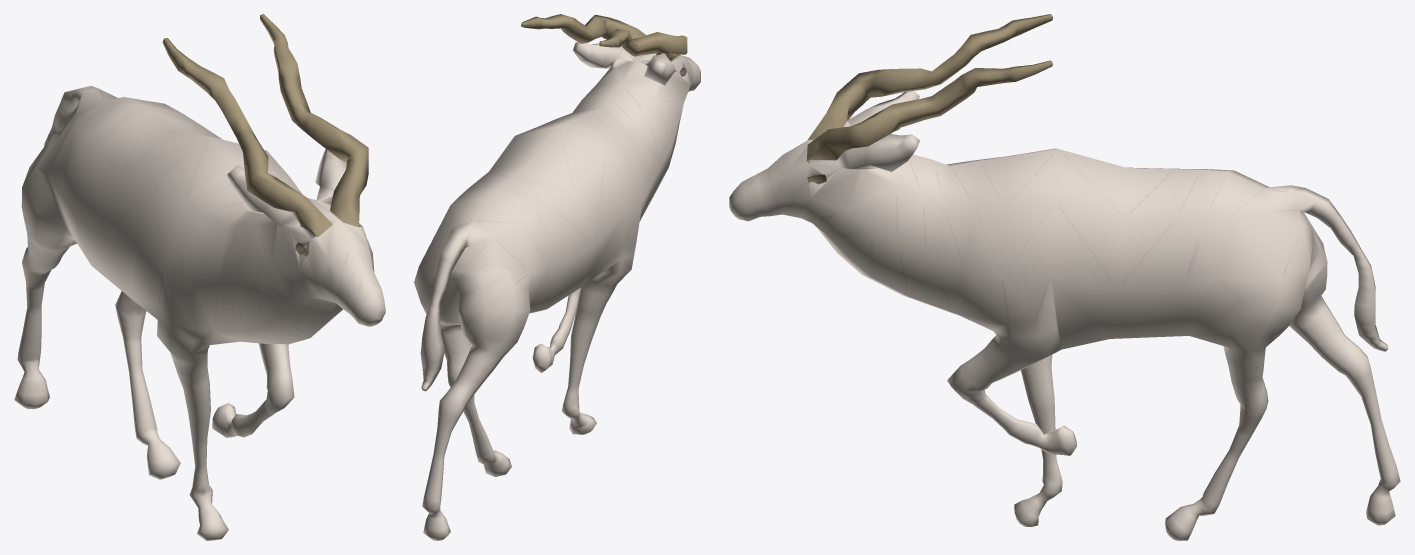
The model's file is addax.fbx.
3 renders of one model, left to right at view 1: azimuth 30°, elevation 25°; view 2: azimuth 150°, elevation 25°; view 3: azimuth 270°, elevation 25°, orthographic. The views are drawn at different scales.
Visible parts, largest first — view 1: unamed; view 2: unamed; view 3: unamed.
Part boxes in pixels (x1,y1,x2,y2): unamed: (14,14,385,540); unamed: (414,14,700,540); unamed: (729,14,1400,540).
Bounding box in the file's own units: 0.3307 × 1.01 × 1.24.
Materials: 1 (1 with a texture image).
